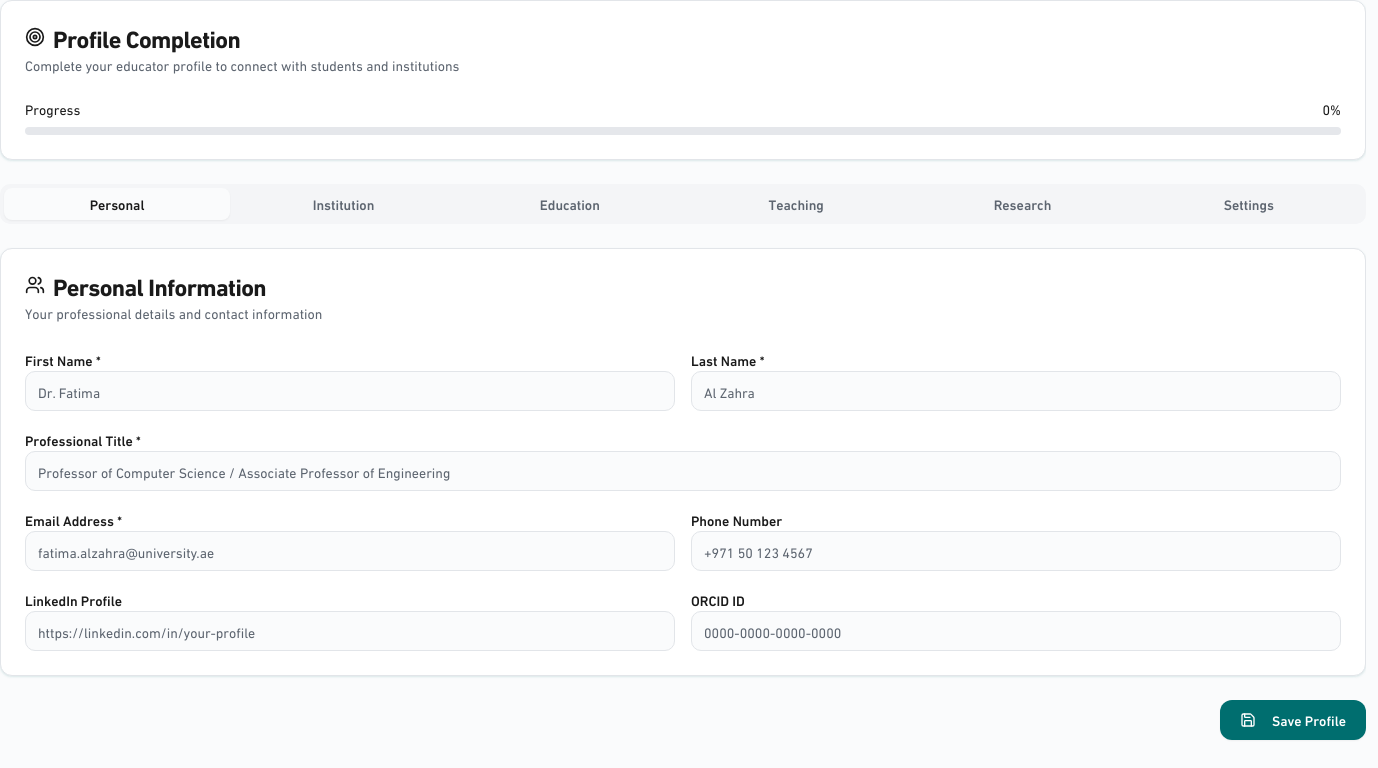
Educator Persona Components › EducatorProfileForm › displays success message on successful profile save
The image size is (1378, 768).
Click the button "Save Profile" at (1293, 720), box [1220,700,1366,740]
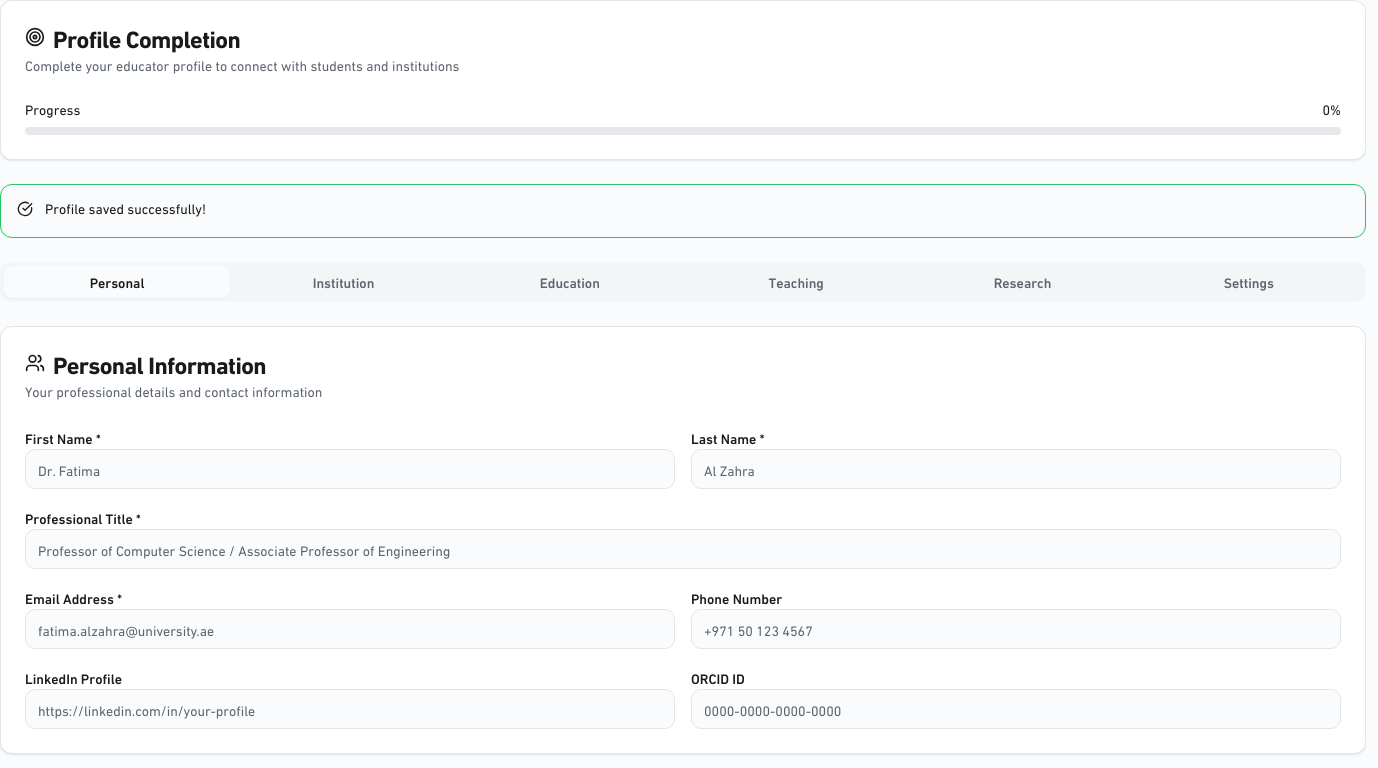
Expected: the text "Profile saved successfully!" is shown, [45,197,206,218]
